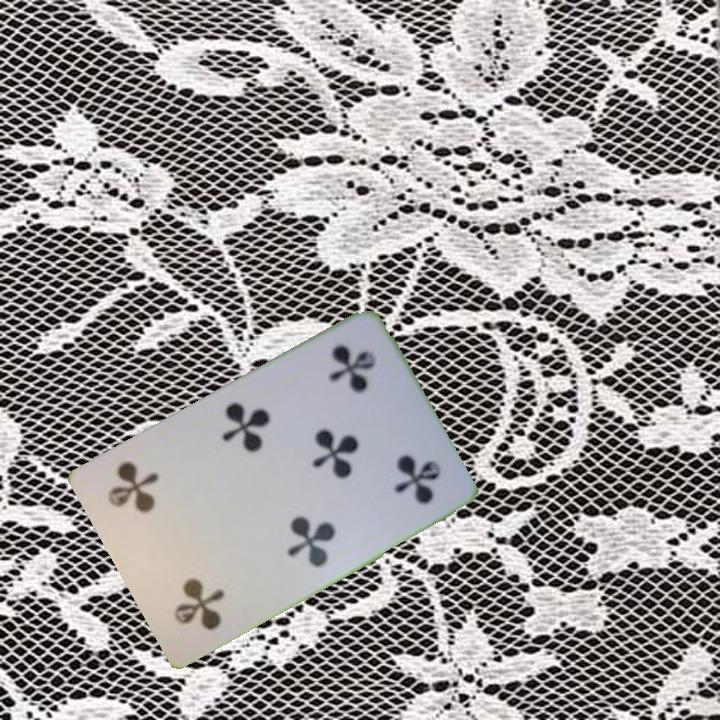c_7.png: (293, 325, 415, 452), (133, 522, 254, 649)
